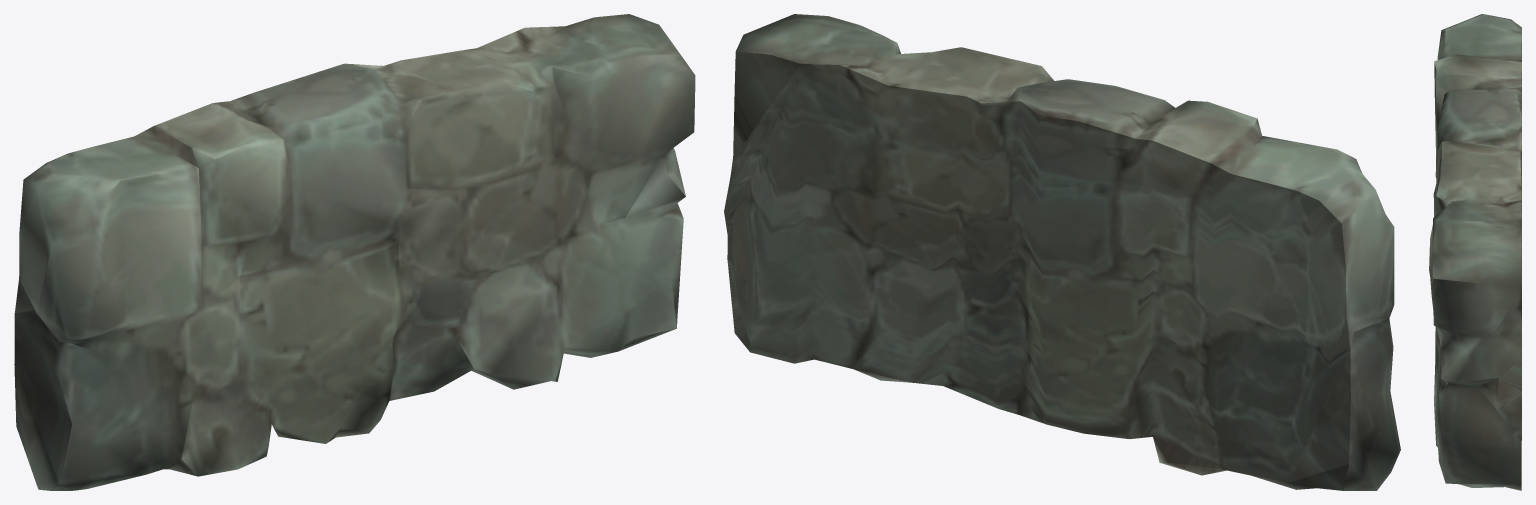
File: RuinsFloor_A_Half.fbx
3 views of the same model, side by side, from view 1: azimuth 30°, elevation 25°; view 2: azimuth 150°, elevation 25°; view 3: azimuth 270°, elevation 25° (orthographic). The views are drawn at different scales.
Parts seen in each view (by area): view 1: RuinsFloor_A_Half; view 2: RuinsFloor_A_Half; view 3: RuinsFloor_A_Half.
Part boxes in pixels (<box>): RuinsFloor_A_Half: <box>14,14,695,490</box>; RuinsFloor_A_Half: <box>724,14,1400,490</box>; RuinsFloor_A_Half: <box>1429,14,1521,490</box>.
Size of the model in its own units: 850 by 440 by 133.
